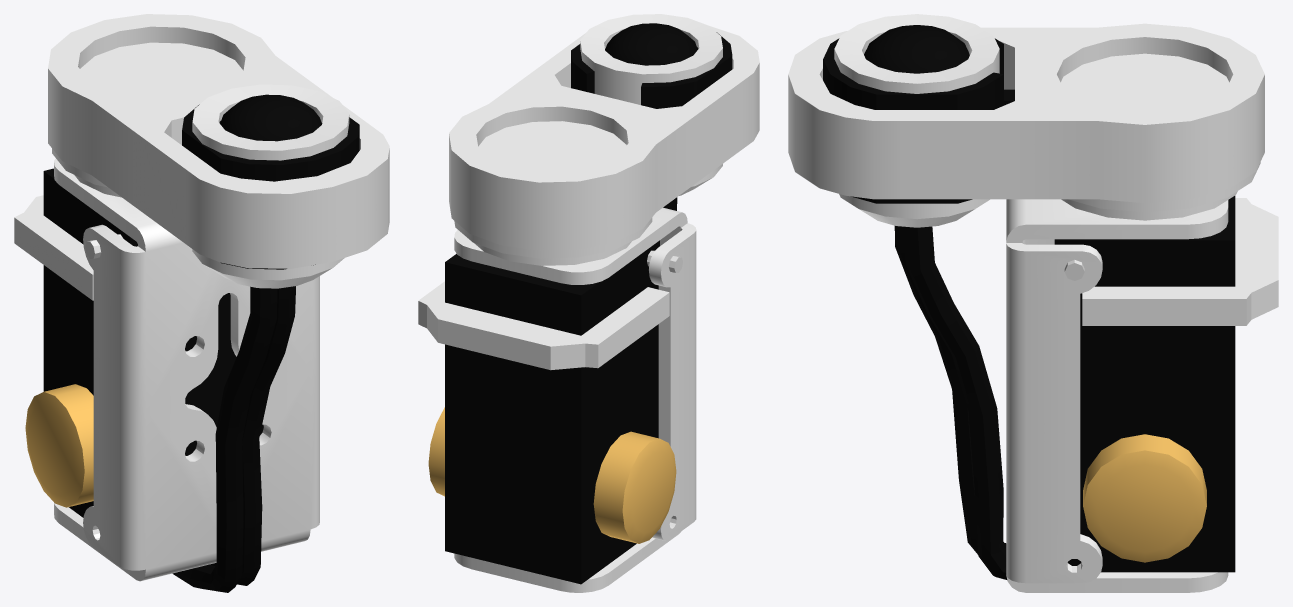
The model's file is arm4.gltf.
3 views of the same model, side by side, from view 1: azimuth 30°, elevation 25°; view 2: azimuth 150°, elevation 25°; view 3: azimuth 270°, elevation 25° (orthographic). The views are drawn at different scales.
Parts seen in each view (by area): view 1: arm4; view 2: arm4; view 3: arm4.
Boxes of the visible parts, bbox=[...] form: arm4: bbox=[14, 14, 389, 592]; arm4: bbox=[418, 14, 759, 592]; arm4: bbox=[788, 14, 1278, 592].
Bounding box in the file's own units: 1.58 × 3.6 × 2.9.
